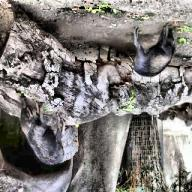boar: (131, 23, 175, 78)
